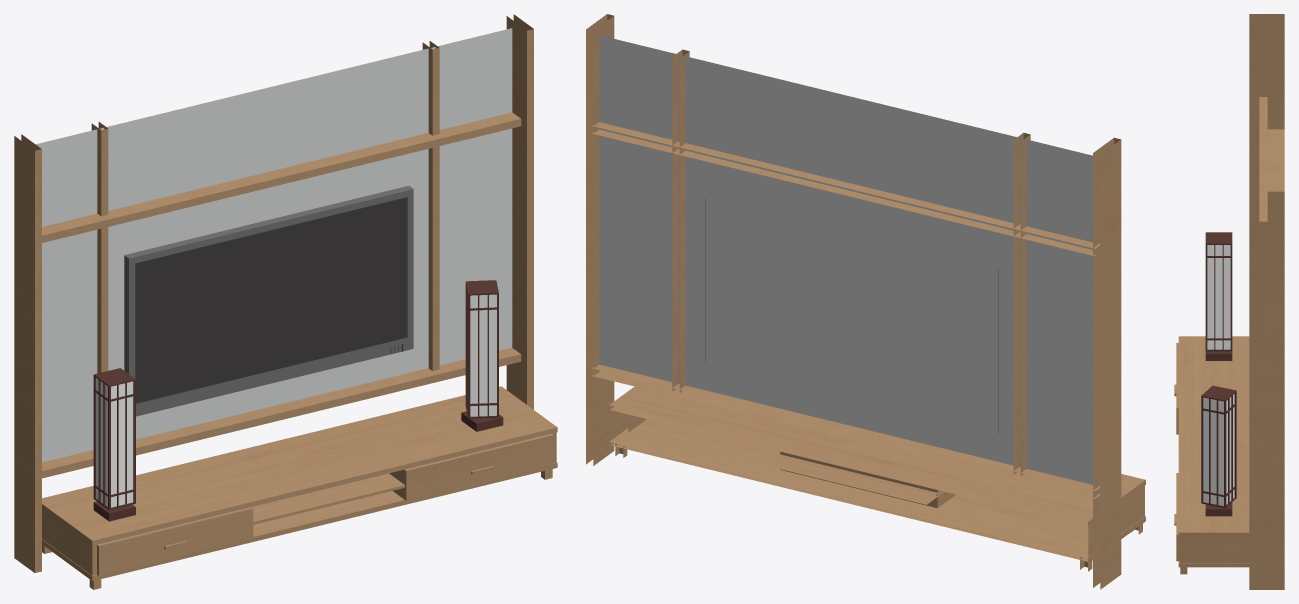
File: M_TVgui03.FBX
The picture shows the model from 3 angles, left to right: view 1: azimuth 30°, elevation 25°; view 2: azimuth 150°, elevation 25°; view 3: azimuth 270°, elevation 25°; orthographic projection. The views are drawn at different scales.
Parts seen in each view (by area): view 1: M_TVgui03_03, M_TVgui03_01, M_TVgui03_02, M_TVgui03_04; view 2: M_TVgui03_03, M_TVgui03_01, M_TVgui03_02; view 3: M_TVgui03_01, M_TVgui03_04, M_TVgui03_03.
Boxes of the visible parts, left/top/right/bottom form: M_TVgui03_03: left=36, top=28, right=512, bottom=521; M_TVgui03_01: left=14, top=14, right=557, bottom=589; M_TVgui03_02: left=124, top=185, right=413, bottom=416; M_TVgui03_04: left=96, top=294, right=496, bottom=507; M_TVgui03_03: left=599, top=35, right=1092, bottom=484; M_TVgui03_01: left=586, top=14, right=1145, bottom=589; M_TVgui03_02: left=705, top=197, right=998, bottom=433; M_TVgui03_01: left=1174, top=14, right=1284, bottom=589; M_TVgui03_04: left=1203, top=245, right=1234, bottom=505; M_TVgui03_03: left=1201, top=232, right=1236, bottom=516.
Bounding box in the file's own units: 5.16 × 4.18 × 1.14.
